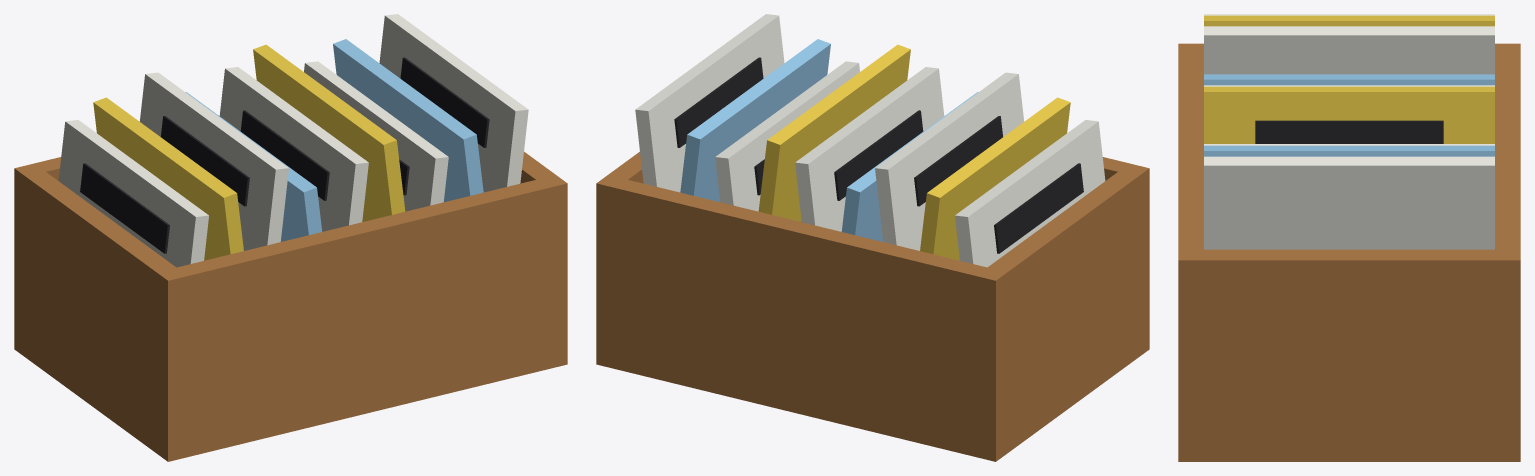
File: garage_plates_box.glb
3 views of the same model, side by side, from view 1: azimuth 30°, elevation 25°; view 2: azimuth 150°, elevation 25°; view 3: azimuth 270°, elevation 25° (orthographic). The views are drawn at different scales.
Visible parts, largest first — view 1: box_crate_wood, plates, digits_plate_ink (×4); view 2: box_crate_wood, plates, digits_plate_ink (×4); view 3: box_crate_wood, plates, digits_plate_ink.
Boxes of the visible parts, x1,y1,x2,y2 form: box_crate_wood: (14,151,567,461); plates: (58,14,528,267); digits_plate_ink (×4): (80,57,489,253); box_crate_wood: (596,151,1149,461); plates: (635,14,1105,267); digits_plate_ink (×4): (674,57,1083,253); box_crate_wood: (1178,43,1520,461); plates: (1204,14,1494,249); digits_plate_ink: (1255,120,1443,143).
Size of the model in its own units: 0.6 by 0.3657 by 0.4.
